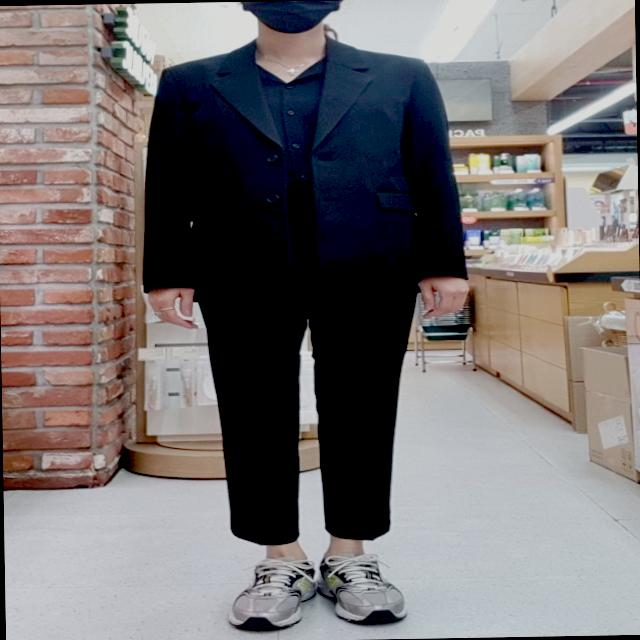blazer: (136, 28, 472, 301)
slacks: (198, 180, 422, 542)
